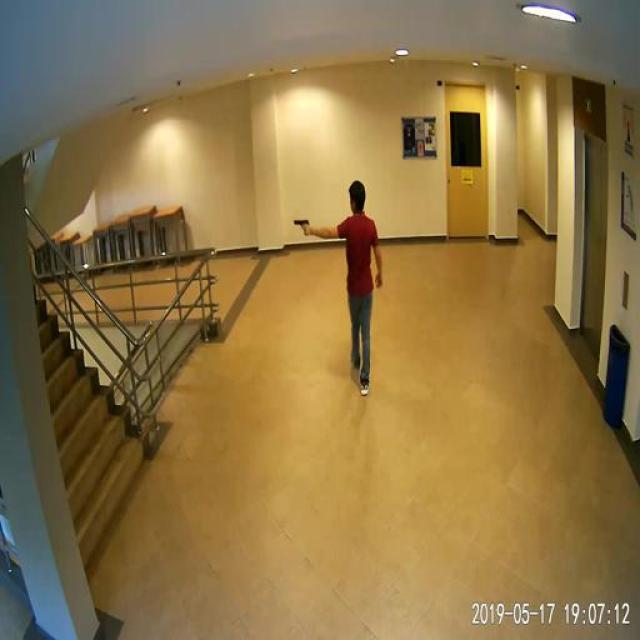Gun: (288, 209, 321, 248)
